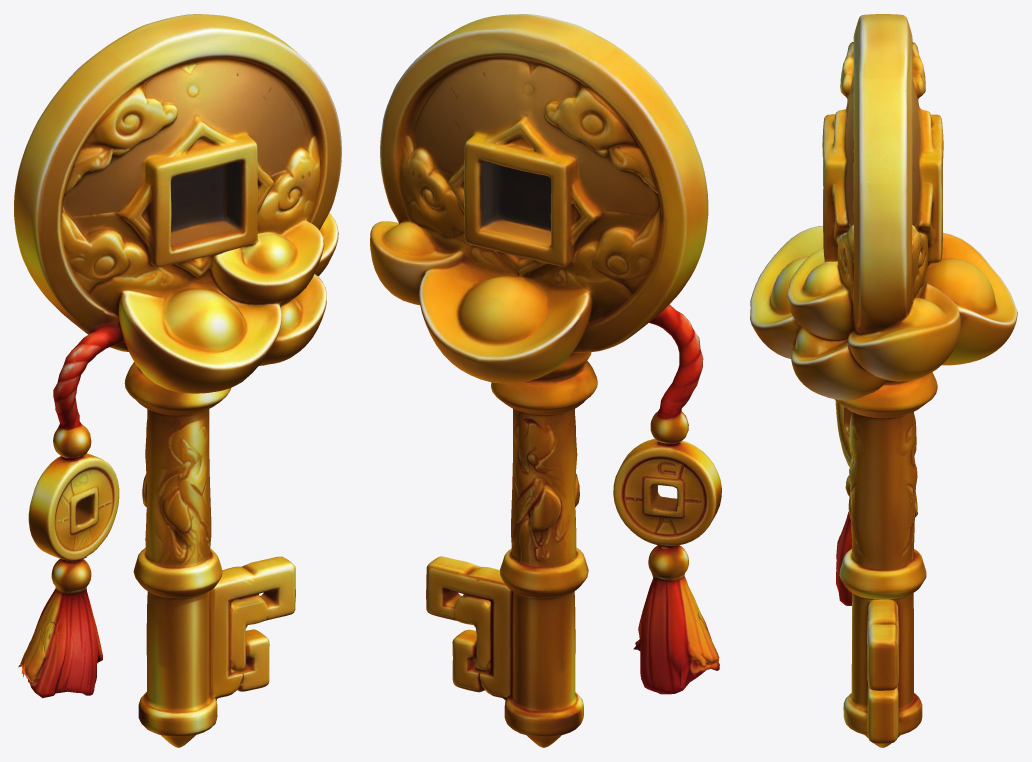
Rendered from llave_de_la_riqueza.glb.
3 renders of one model, left to right at view 1: azimuth 30°, elevation 25°; view 2: azimuth 150°, elevation 25°; view 3: azimuth 270°, elevation 25°, orthographic.
Parts seen in each view (by area): view 1: tripo_node_9eeb50b9; view 2: tripo_node_9eeb50b9; view 3: tripo_node_9eeb50b9.
Part boxes in pixels (x1=…): tripo_node_9eeb50b9: x1=14, y1=14, x2=341, y2=747; tripo_node_9eeb50b9: x1=370, y1=14, x2=721, y2=747; tripo_node_9eeb50b9: x1=750, y1=14, x2=1017, y2=747.
Bounding box in the file's own units: 0.4548 × 0.9775 × 0.3316.
1 material, 1 textured.
